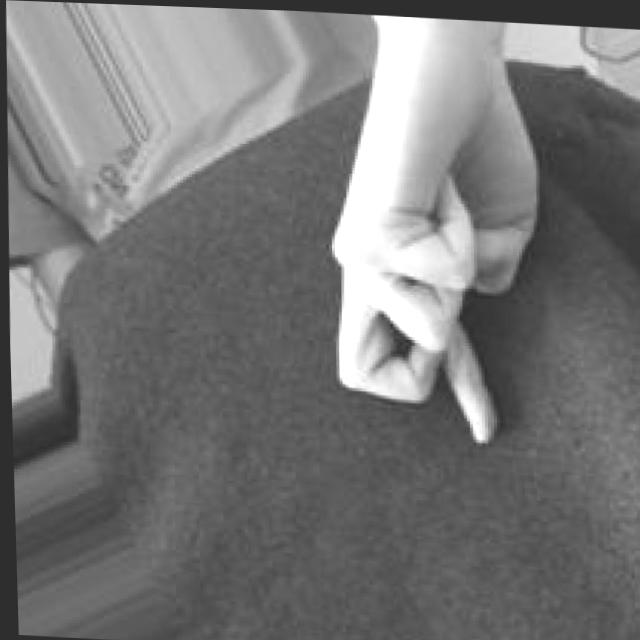P: (303, 22, 562, 459)
